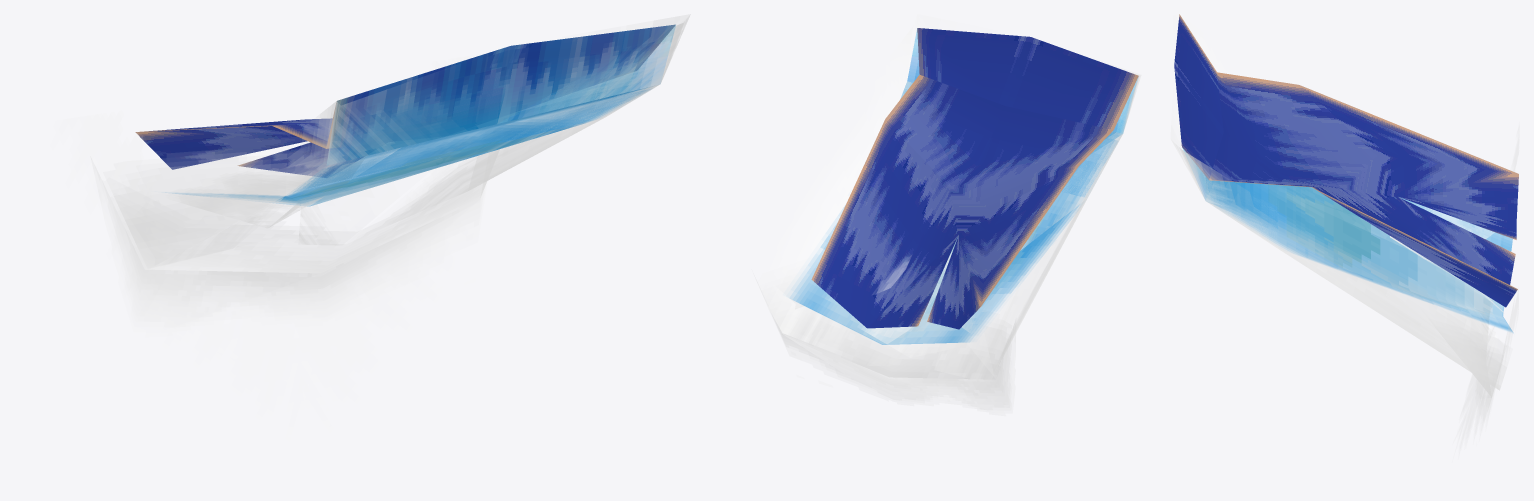
The model's file is c_grd_fall0.001.glb.
3 views of the same model, side by side, from view 1: azimuth 30°, elevation 25°; view 2: azimuth 150°, elevation 25°; view 3: azimuth 270°, elevation 25° (orthographic). The views are drawn at different scales.
Visible parts, largest first — view 1: c_grd_fall0.001; view 2: c_grd_fall0.001; view 3: c_grd_fall0.001.
Part boxes in pixels (left/top/right/bottom): c_grd_fall0.001: left=58, top=14, right=690, bottom=410; c_grd_fall0.001: left=754, top=14, right=1141, bottom=413; c_grd_fall0.001: left=1171, top=14, right=1519, bottom=448.
Size of the model in its own units: 9.25 by 9.47 by 6.97.
8 materials, 8 textured.
